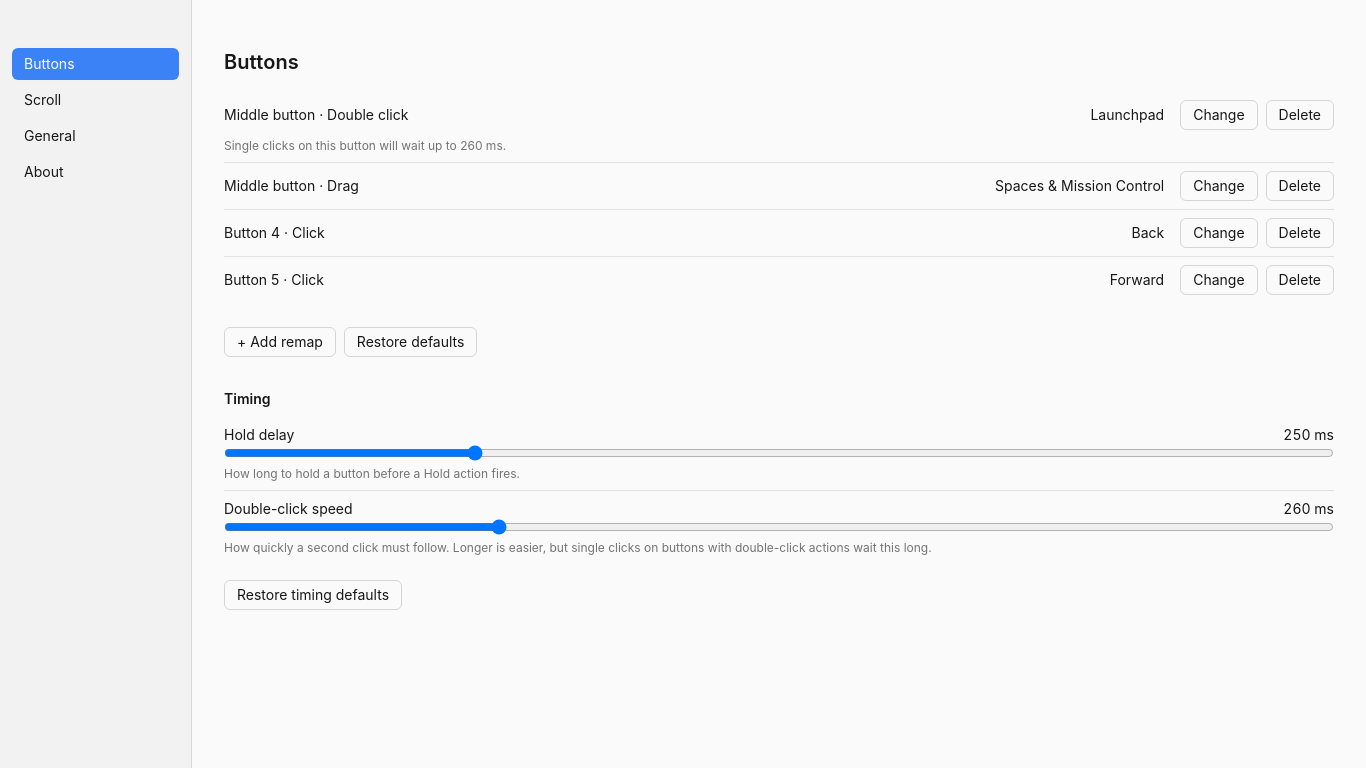
Test case: Buttons page › counts down the seconds left to press a button
Click the button "+ Add remap".
click(280, 342)  # box 224,327 -> 336,357
Wait 3000 ms
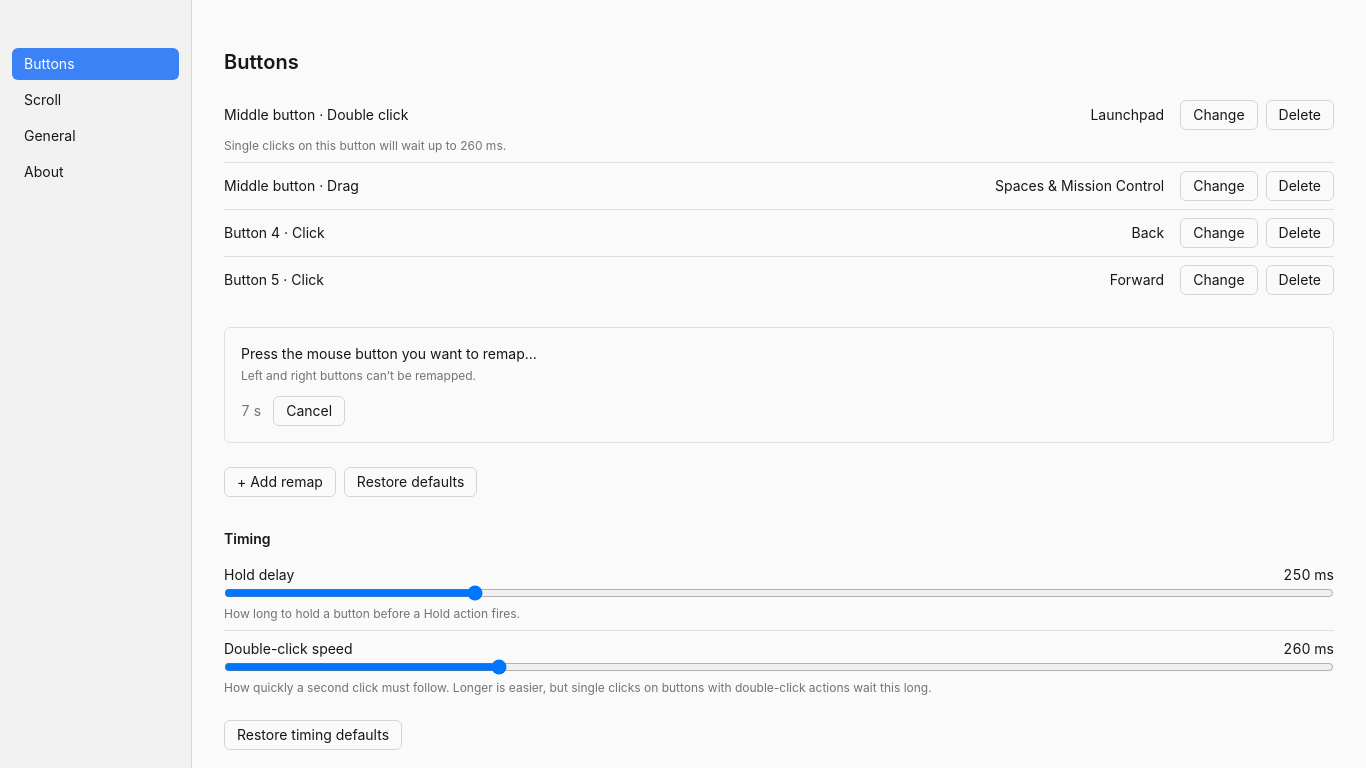
Expected: the text "7 s" is shown, 241,401 -> 261,421
